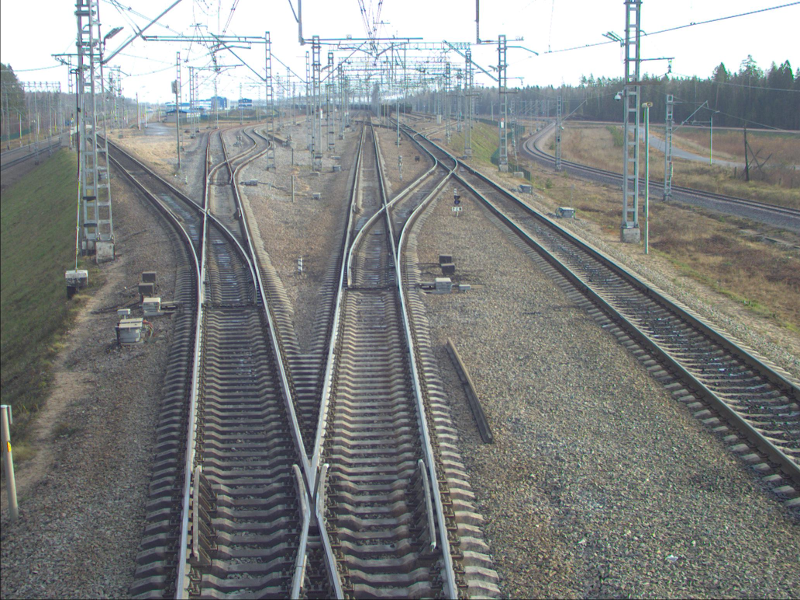left: (340, 242, 407, 291)
right: (187, 246, 270, 303)
